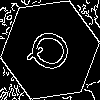Q: (25, 25, 81, 80)
